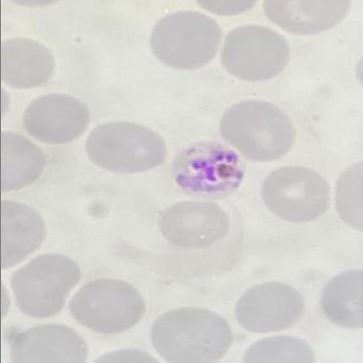Infected: (171, 138, 244, 199)
Uninfected: (146, 308, 234, 363), (222, 100, 296, 163), (147, 9, 220, 71), (10, 254, 79, 319), (85, 122, 166, 177), (67, 277, 146, 333), (219, 26, 292, 83), (235, 280, 307, 334), (263, 165, 330, 222), (158, 200, 231, 250), (22, 93, 88, 145), (0, 198, 47, 271), (9, 324, 87, 363), (0, 128, 44, 197), (0, 37, 55, 91)
